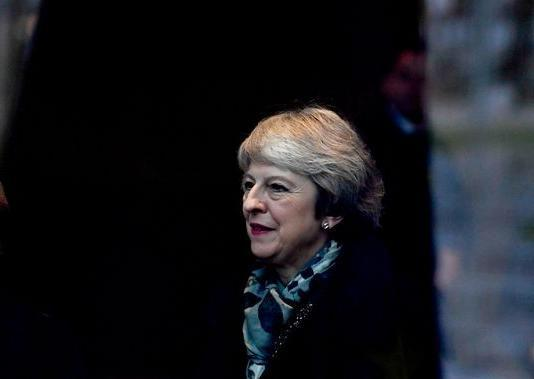Sober: (238, 161, 311, 253)
